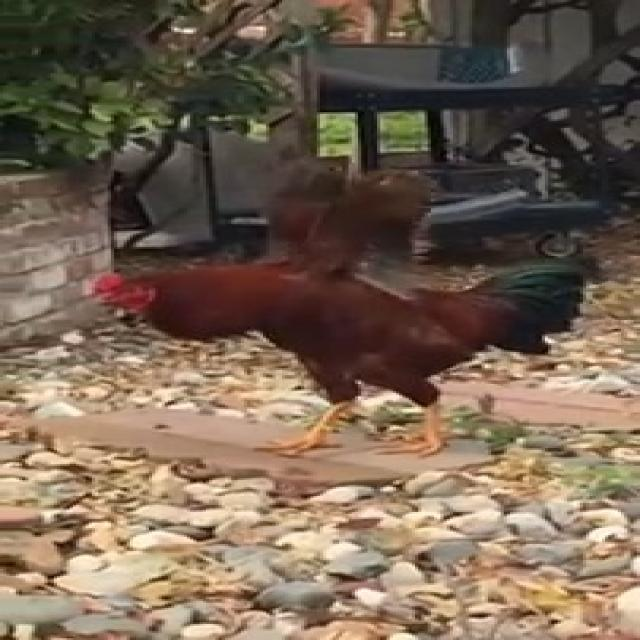wing flap: (85, 150, 596, 462)
